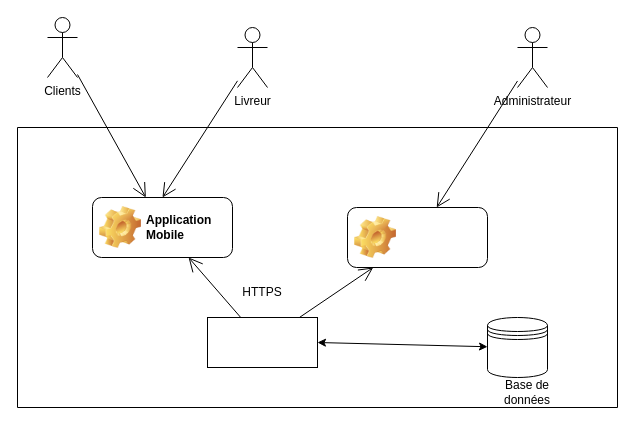
Image size: 635x425. Some labels were removed from this diagram. The shapes that lost their labels are listed below. From the top down, each one's centre as x and y in pixels, then its label:
At (x=417, y=237): "Application WEB".
At (x=262, y=342): "API".
